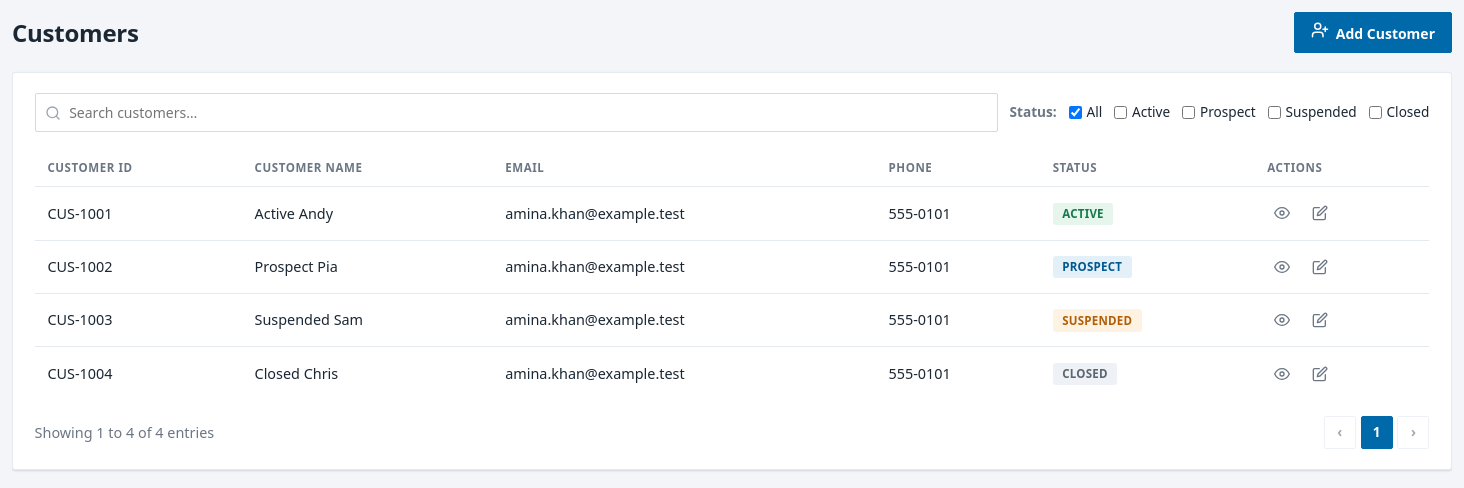
Test: CustomerListPage › status filter › falls back to every status when the last one is unchecked
This screenshot has width=1464, height=488.
Click the checkbox labelled "Active" at (1121, 113), box [1114,106,1127,119]
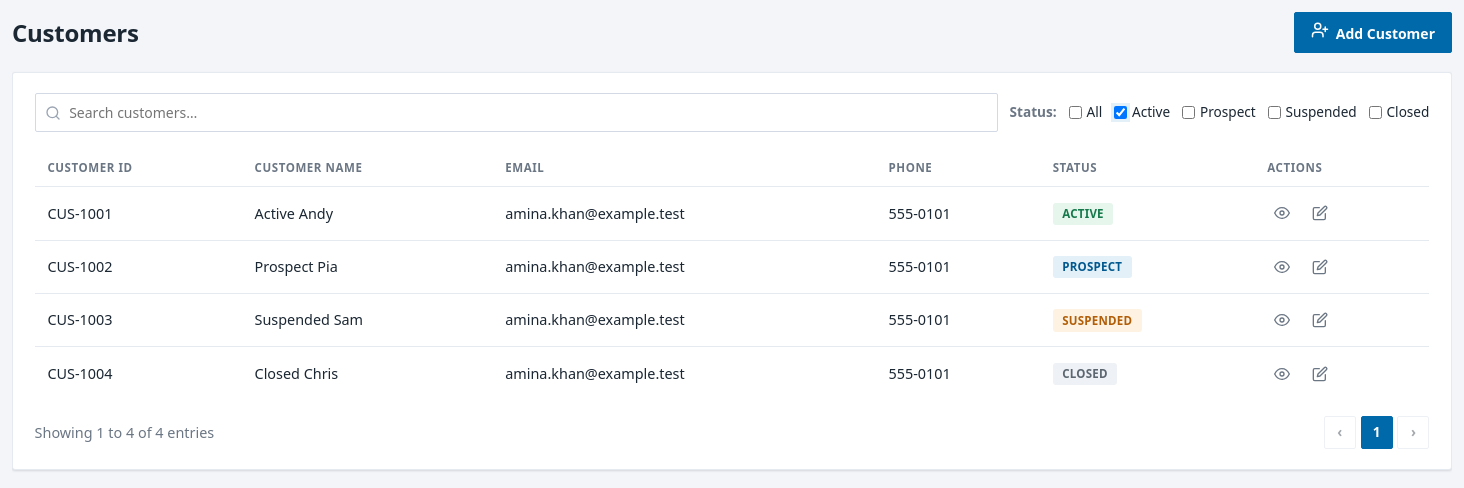
Click the checkbox labelled "Active" at (1121, 113), box [1114,106,1127,119]
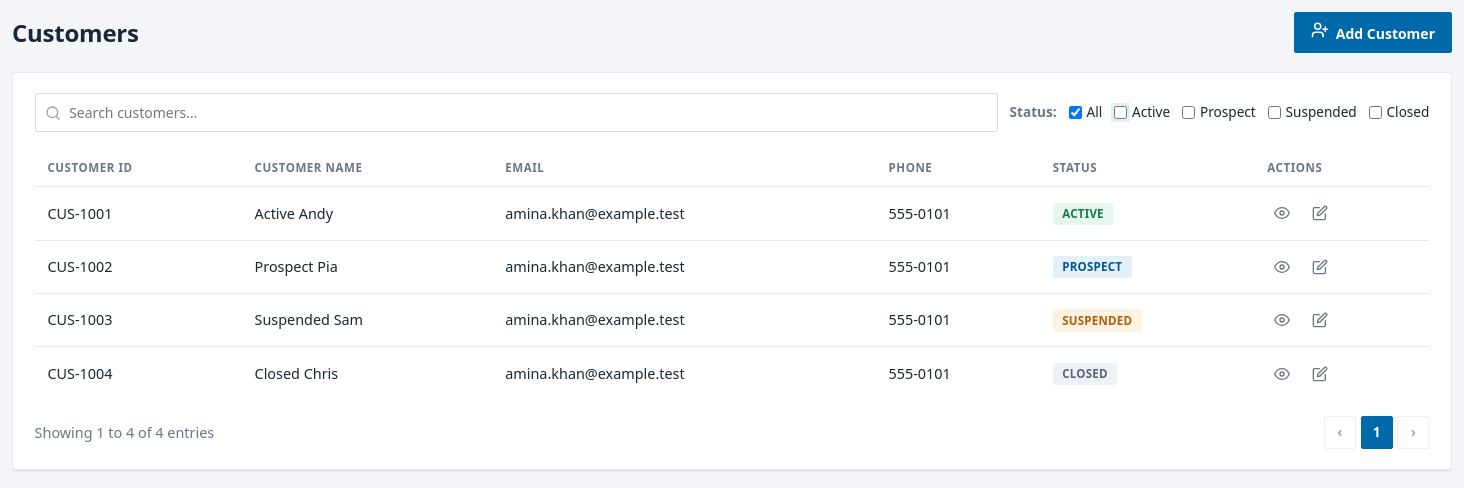
Expected: the checkbox labelled "All" is checked, [1069,106,1082,119]
